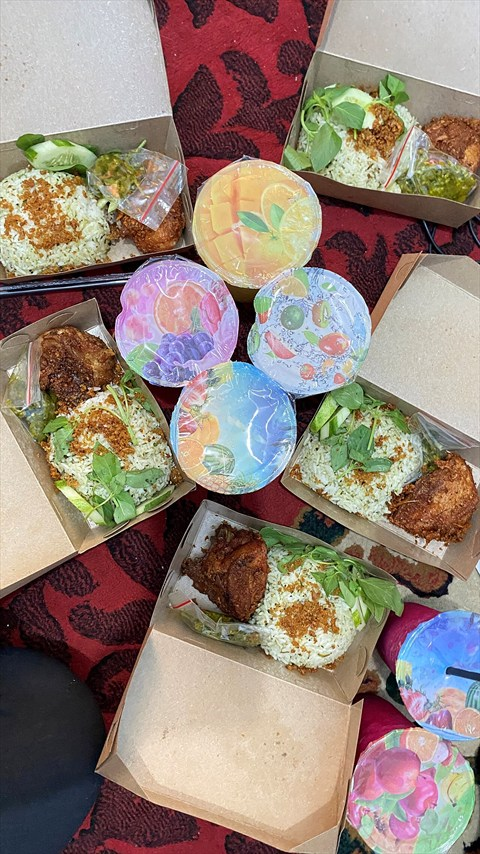Ayam Goreng: (40, 105, 431, 742)
